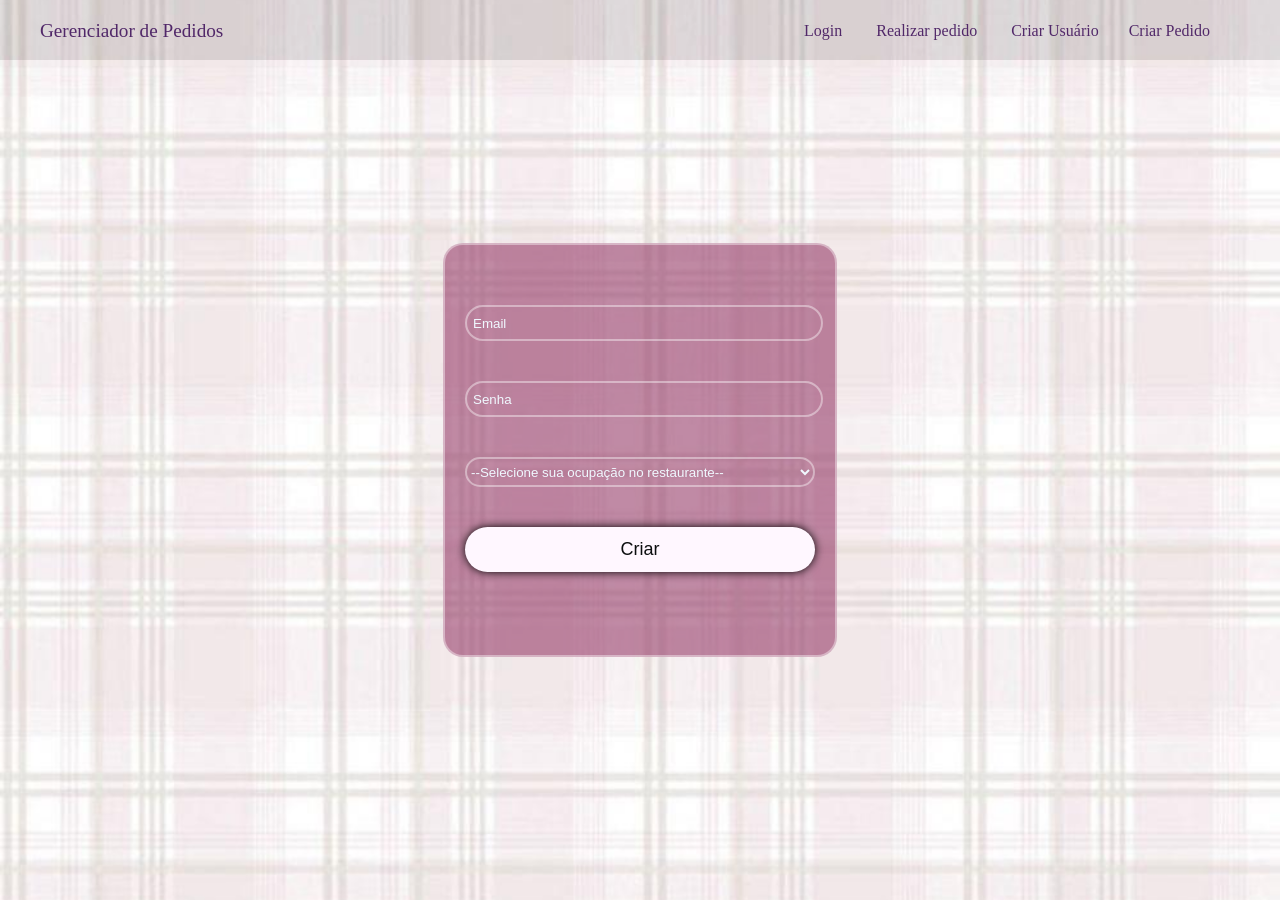
Scenario: CreateUserFormRendering › Teste para validação de entrada nos formulários
Click the button "Criar" at point(640, 550), box [465,527,815,572]
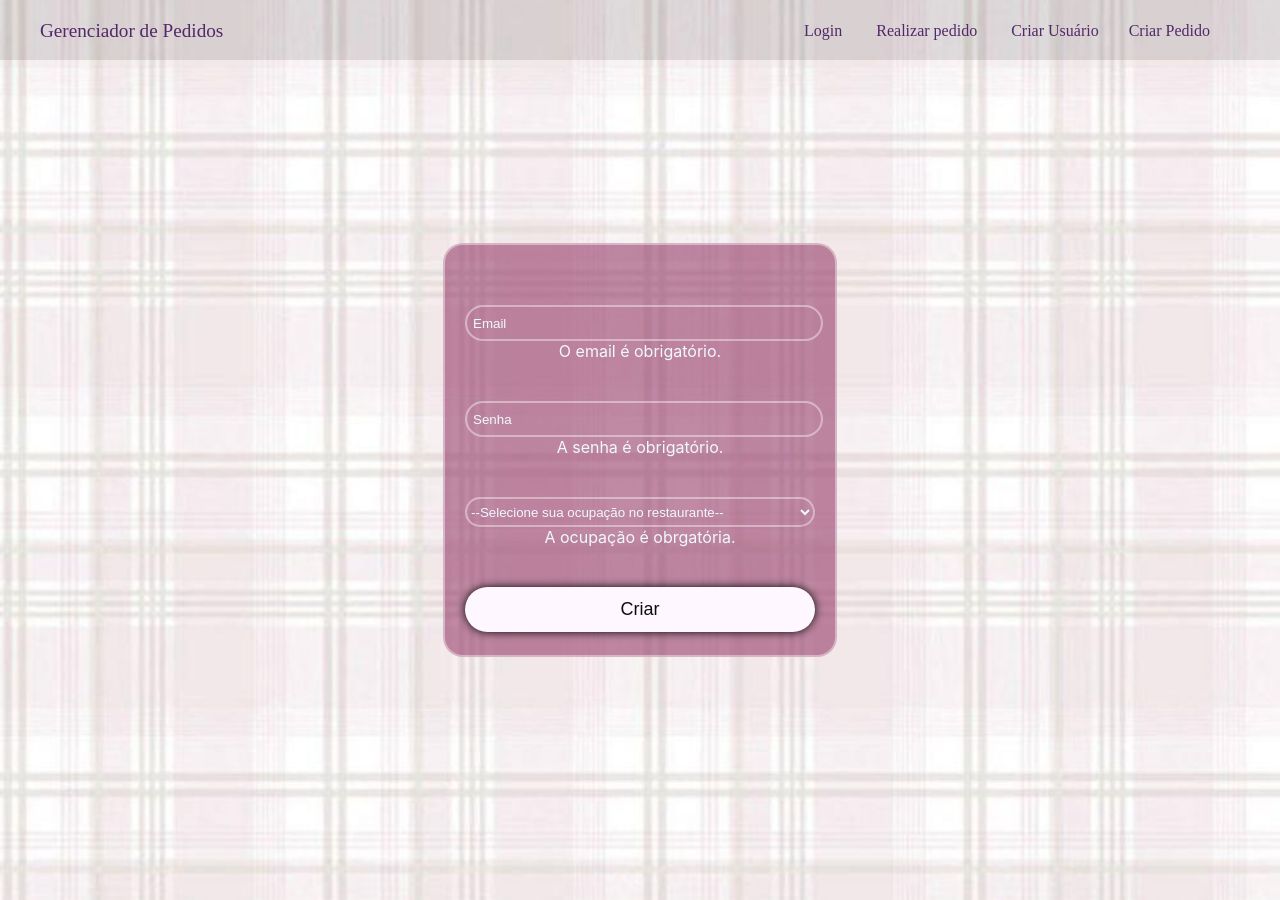
expect the text "O email é obrigatório." is shown: met, box [559,341,721,361]
